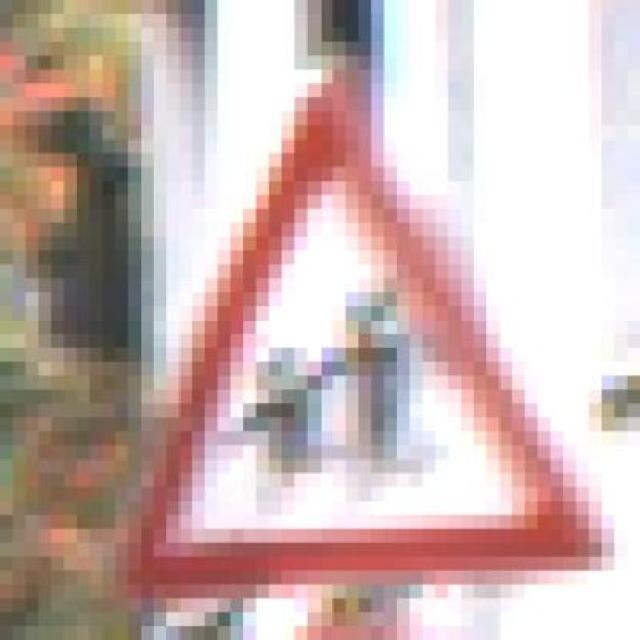Beware of children: (102, 56, 627, 598)
